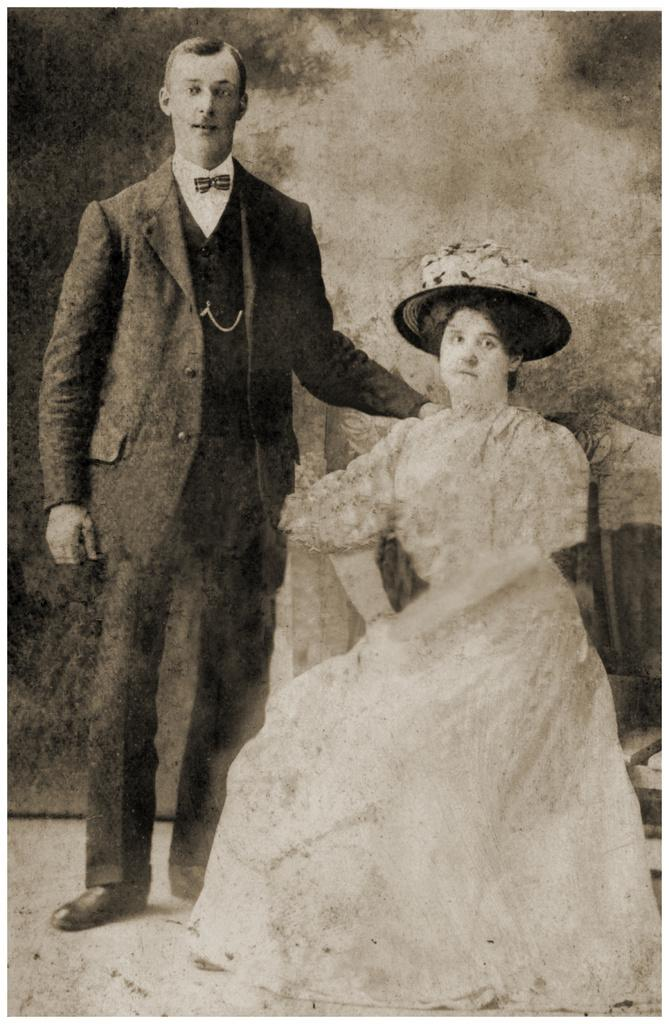Hat: (393, 238, 570, 362)
